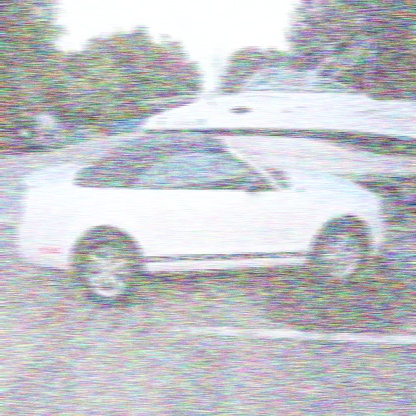Vehicle: (13, 124, 393, 313)
